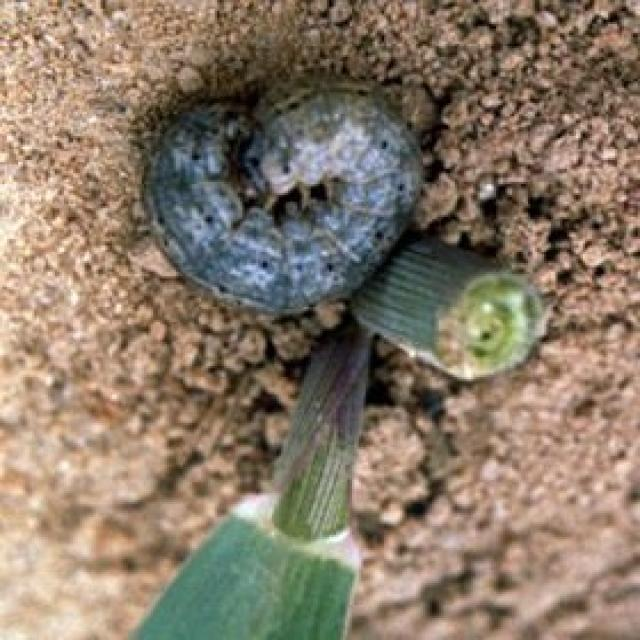black cutworm: (115, 91, 422, 306)
